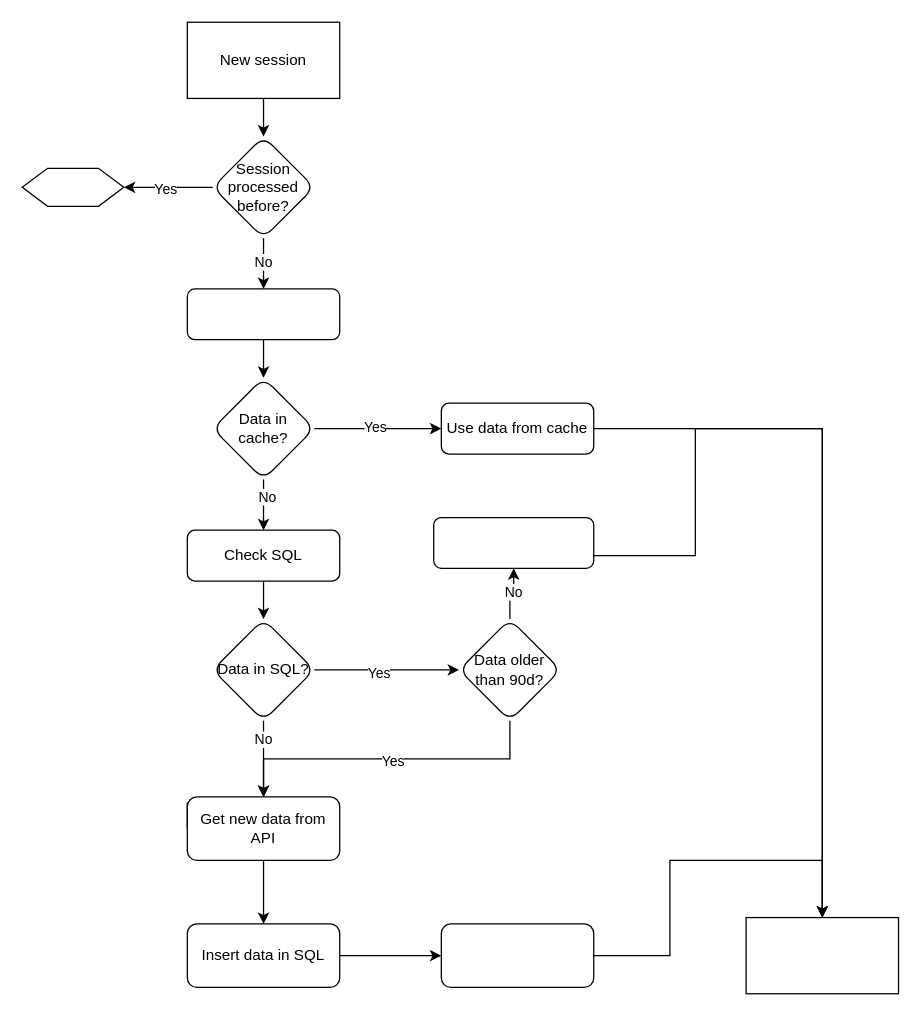
The diagram is 921 pixels wide and 1016 high, and some of its shapes have lost their labels. The centre of each missing label's shape, as x and y in pixels:
Add data to cache: (x=517, y=955)
Check cache: (x=263, y=314)
Continue process: (x=822, y=955)
STOP: (x=72, y=186)
Use data from SQL: (x=513, y=542)
